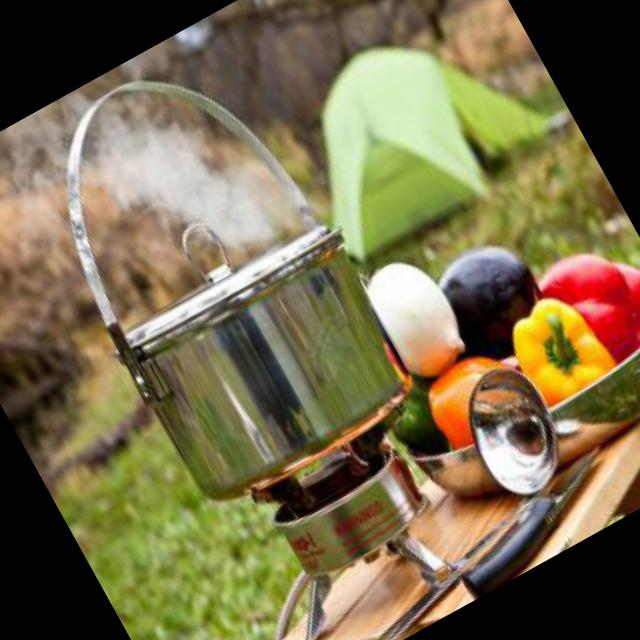smoke: (76, 64, 302, 310)
